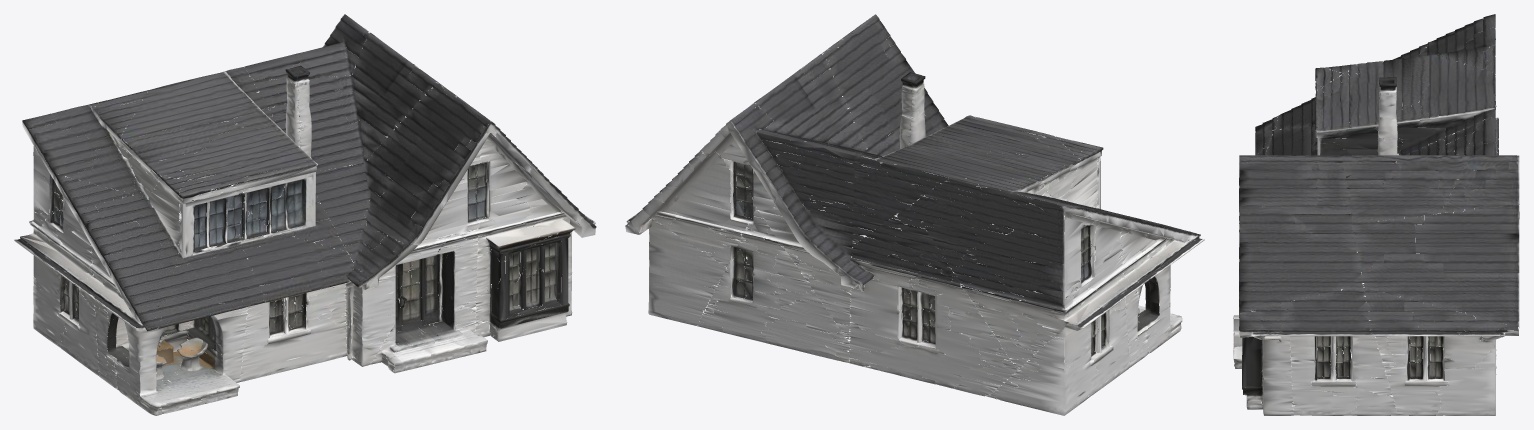
The model's file is farmhouse65.glb.
The picture shows the model from 3 angles, left to right: view 1: azimuth 30°, elevation 25°; view 2: azimuth 150°, elevation 25°; view 3: azimuth 270°, elevation 25°; orthographic projection. The views are drawn at different scales.
Visible parts, largest first — view 1: tripo_node_cfdda75a-2df9-41c8-9c1b-b60aeb6f361d; view 2: tripo_node_cfdda75a-2df9-41c8-9c1b-b60aeb6f361d; view 3: tripo_node_cfdda75a-2df9-41c8-9c1b-b60aeb6f361d.
Boxes of the visible parts, bbox=[...] form: tripo_node_cfdda75a-2df9-41c8-9c1b-b60aeb6f361d: bbox=[14, 14, 596, 415]; tripo_node_cfdda75a-2df9-41c8-9c1b-b60aeb6f361d: bbox=[625, 14, 1204, 415]; tripo_node_cfdda75a-2df9-41c8-9c1b-b60aeb6f361d: bbox=[1233, 14, 1519, 415].
Bounding box in the file's own units: 7.2 × 3.76 × 4.11.
1 material, 1 textured.
